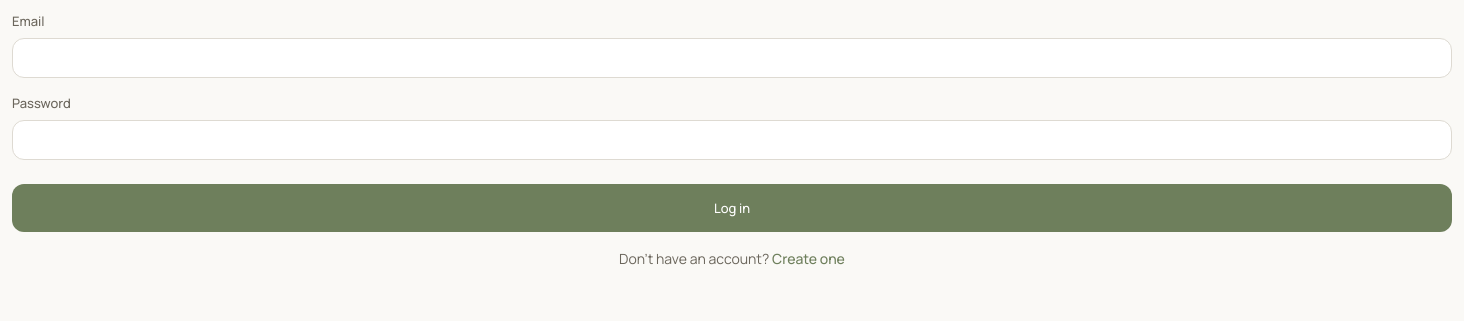
Test case: LoginForm › shows an inline error on invalid credentials (401)
Type "user@example.com" into the field labelled "Email" at (732, 58), box [12, 38, 1452, 78]
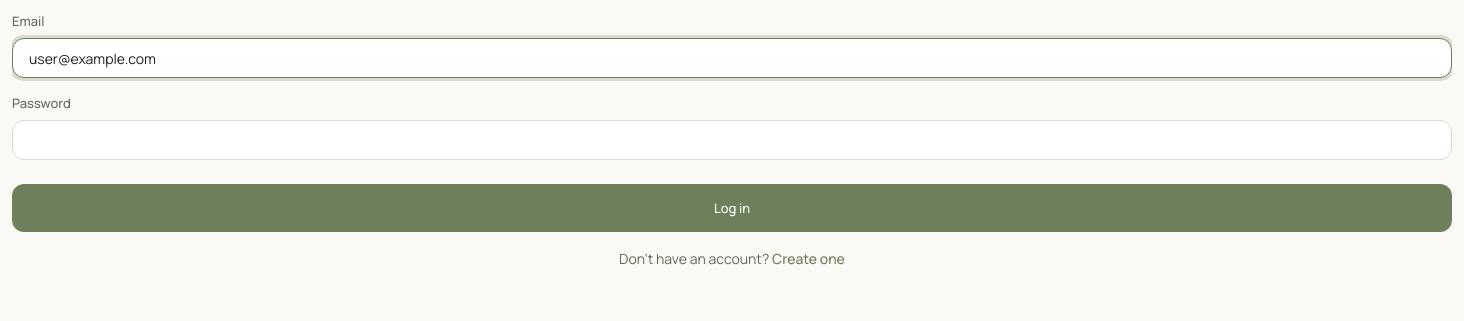
Type "wrongpassword" into the password field labelled "Password" at (732, 140), box [12, 120, 1452, 160]
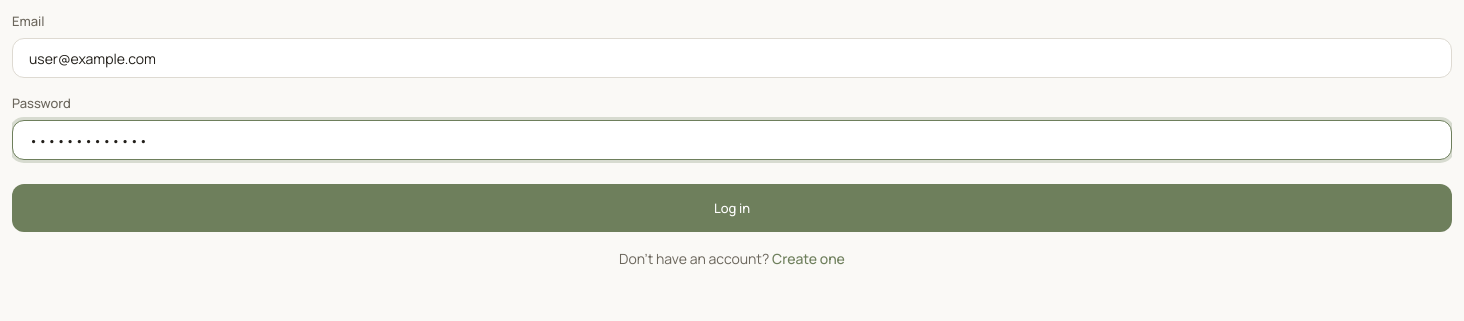
Click the button "Log in" at (732, 208), box [12, 184, 1452, 232]
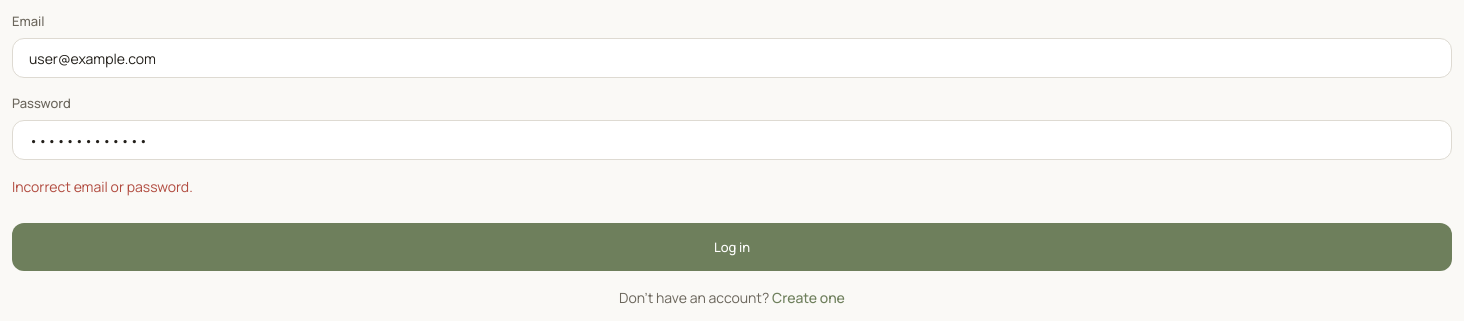
Check: the message reads "Incorrect email or password.", box [12, 177, 193, 196]
